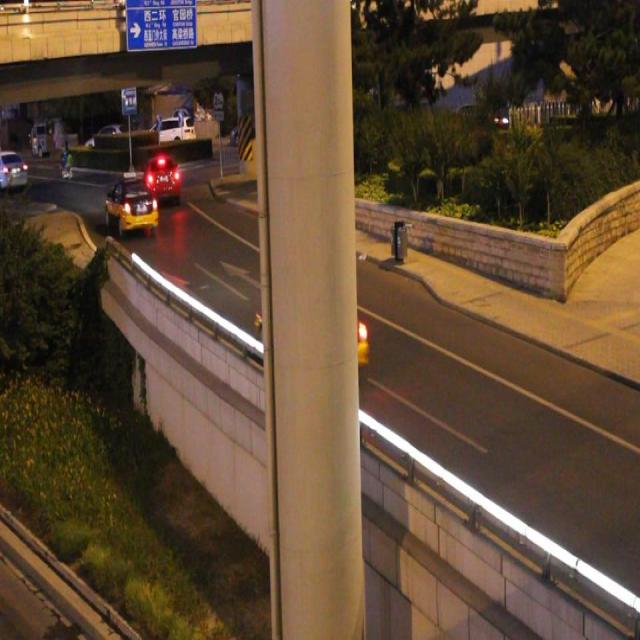car: (262, 277, 358, 377), (104, 171, 158, 237), (145, 155, 180, 203)
